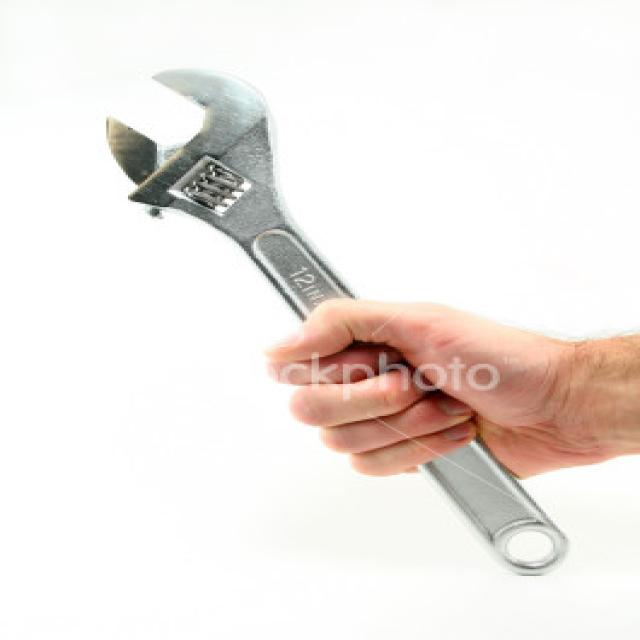wrench: (64, 53, 445, 440)
